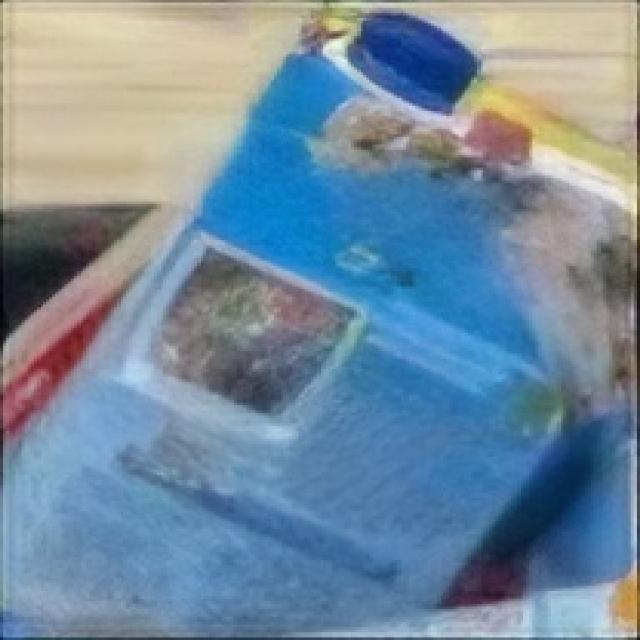drink carton: (19, 0, 640, 635)
